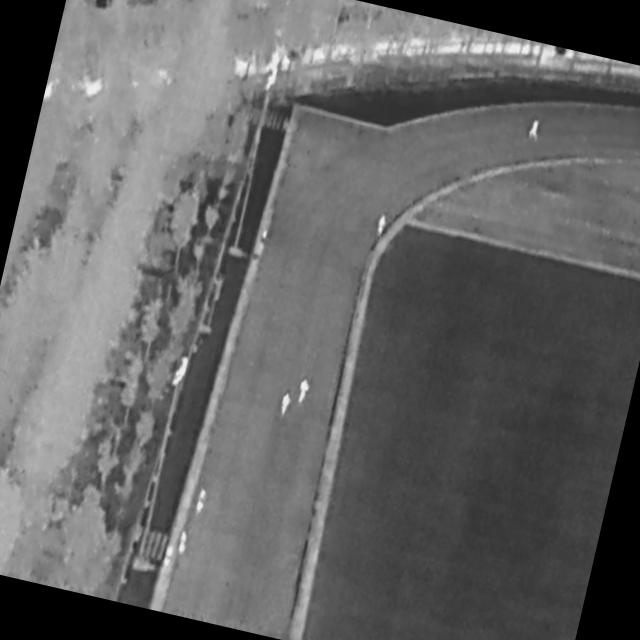person: (278, 386, 295, 418), (295, 377, 312, 408), (193, 486, 209, 517), (176, 529, 191, 558), (527, 117, 542, 143), (375, 211, 389, 235), (162, 545, 175, 569), (258, 227, 270, 250)
